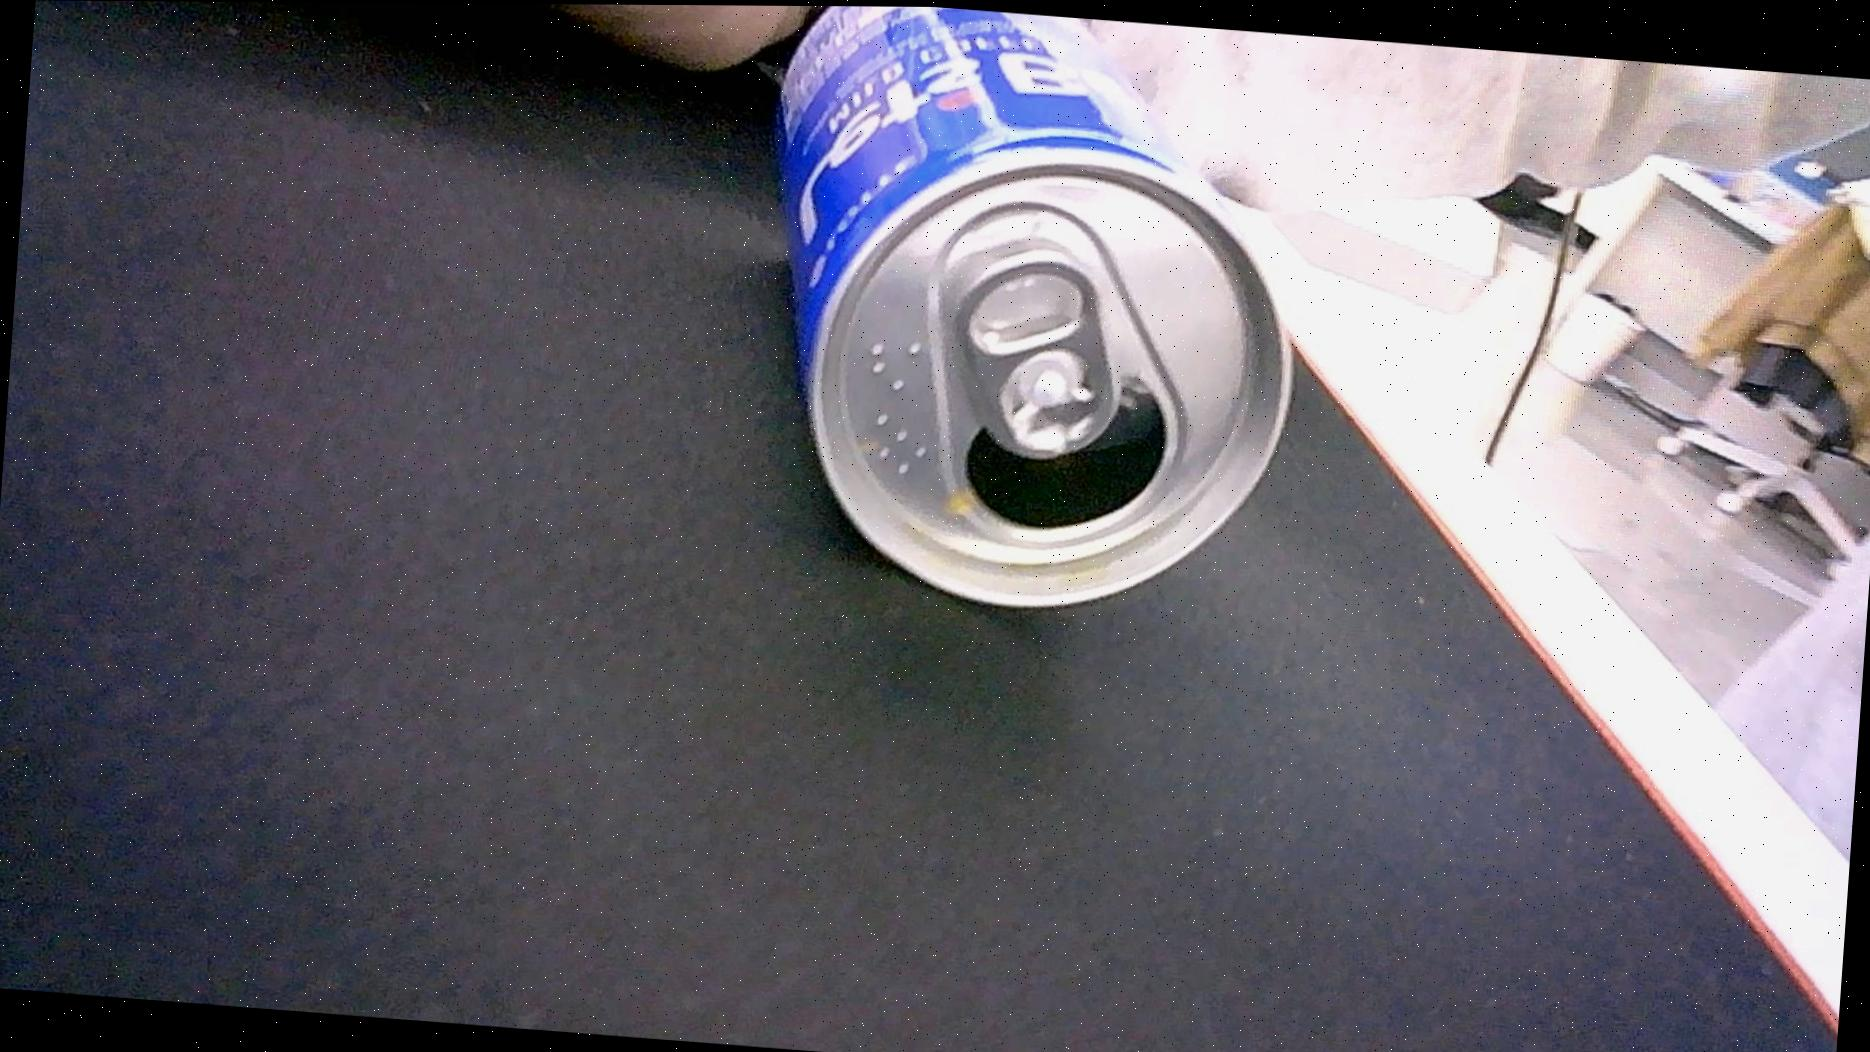letsbe: (746, 4, 1313, 624)
